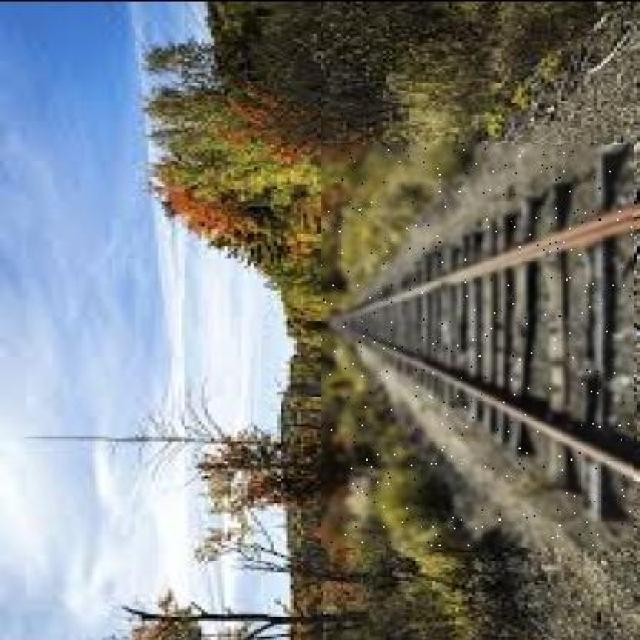rail: (321, 145, 632, 545)
